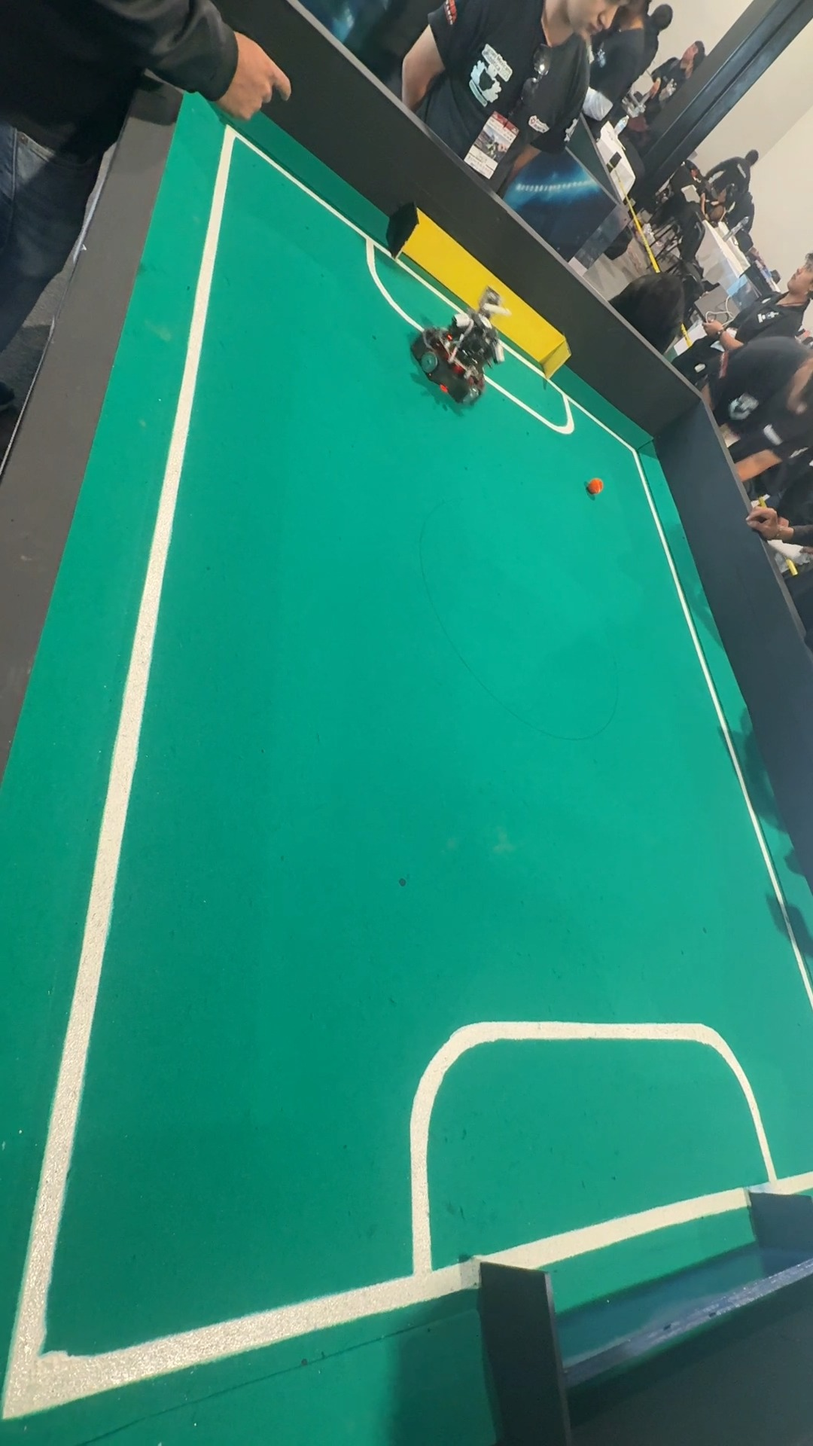Robot: (401, 281, 508, 422)
pelota: (584, 471, 607, 499)
